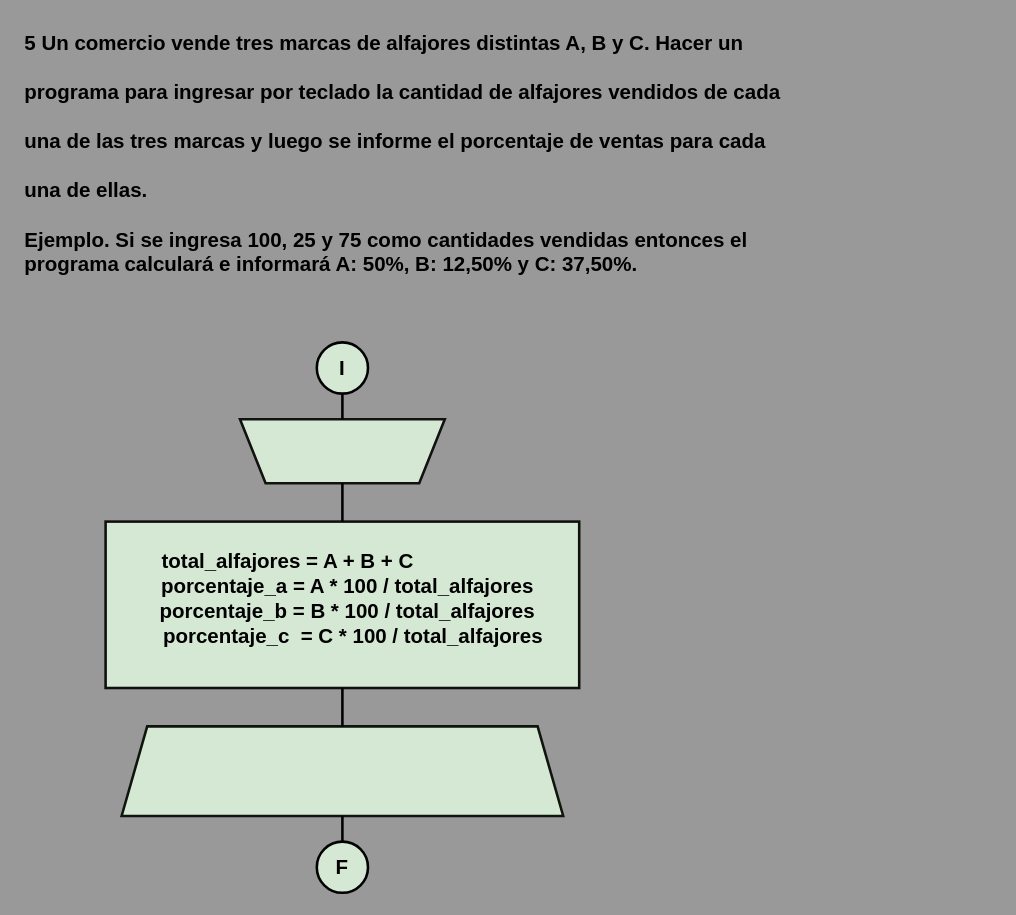
The diagram is 1016 pixels wide and 915 high, and some of its shapes have lost their labels. Each missing label, with the box of its shape:
A, B, C: (238, 417, 445, 484)
porcentaje_a, porcentaje_b, porcentaje_c: (120, 724, 564, 817)
